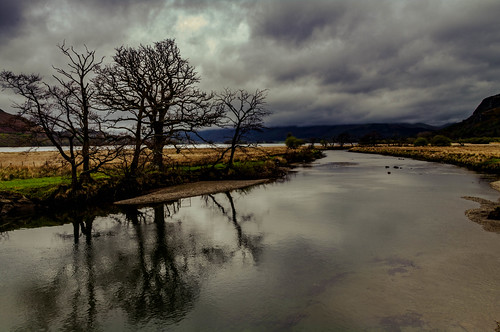river: (20, 158, 494, 332)
sky: (17, 1, 500, 98)
tree: (1, 45, 110, 185), (107, 40, 209, 170), (202, 83, 269, 166)
